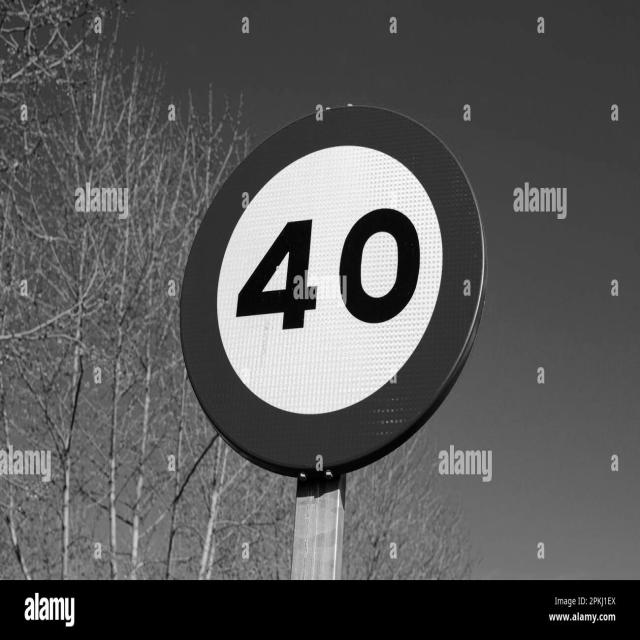speed_40: (181, 106, 488, 478)
